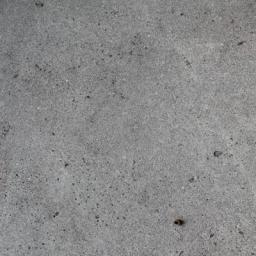FOD: (171, 218, 185, 229)
